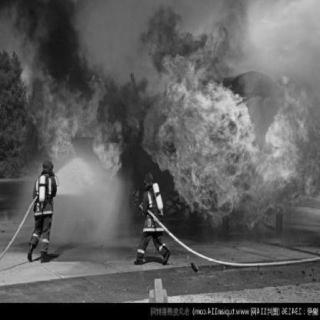Fire: (139, 24, 320, 223), (26, 60, 126, 174)
